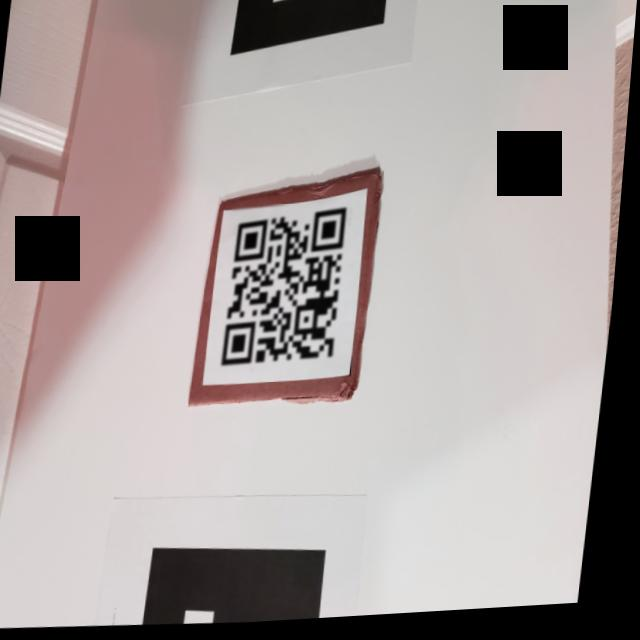QR_CODE: (219, 202, 360, 386)
